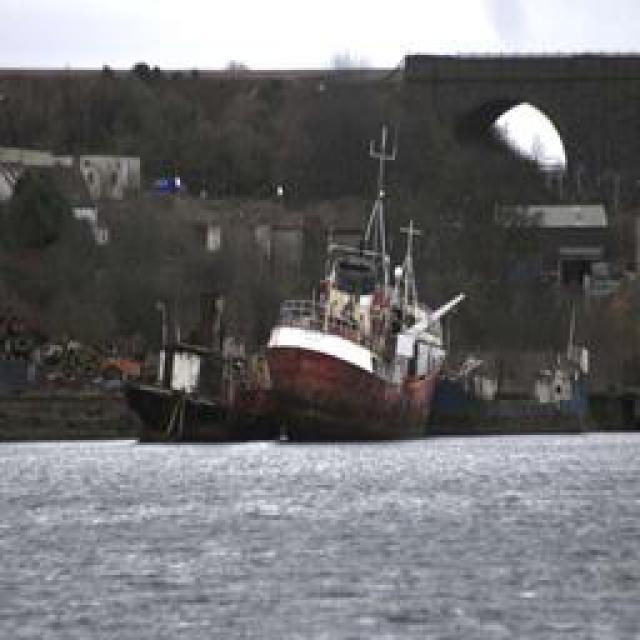Ship: (266, 118, 459, 436)
